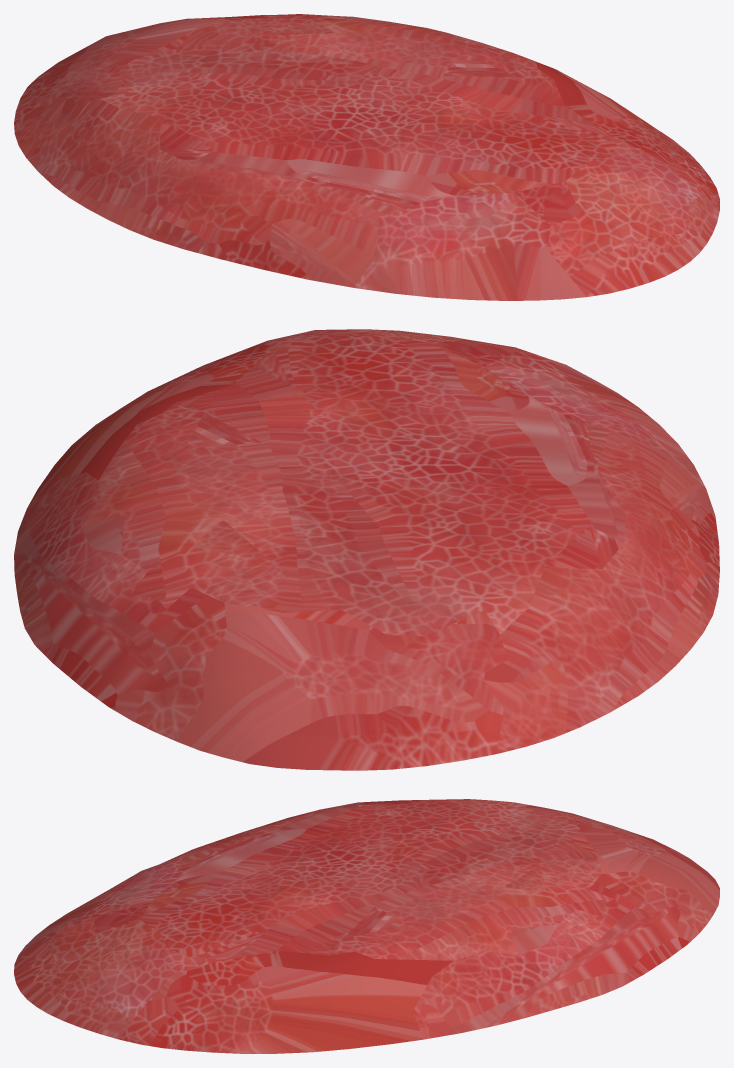
The model's file is ground1.fbx.
The picture shows the model from 3 angles, top to bottom: view 1: azimuth 30°, elevation 25°; view 2: azimuth 150°, elevation 25°; view 3: azimuth 270°, elevation 25°; orthographic projection. The views are drawn at different scales.
Parts seen in each view (by area): view 1: ground_002__18_; view 2: ground_002__18_; view 3: ground_002__18_.
Part boxes in pixels (box(x1,y1,x2,y2)): ground_002__18_: box(14, 14, 719, 300); ground_002__18_: box(14, 329, 719, 770); ground_002__18_: box(14, 799, 719, 1053).
Size of the model in its own units: 6356 by 886 by 8010.
